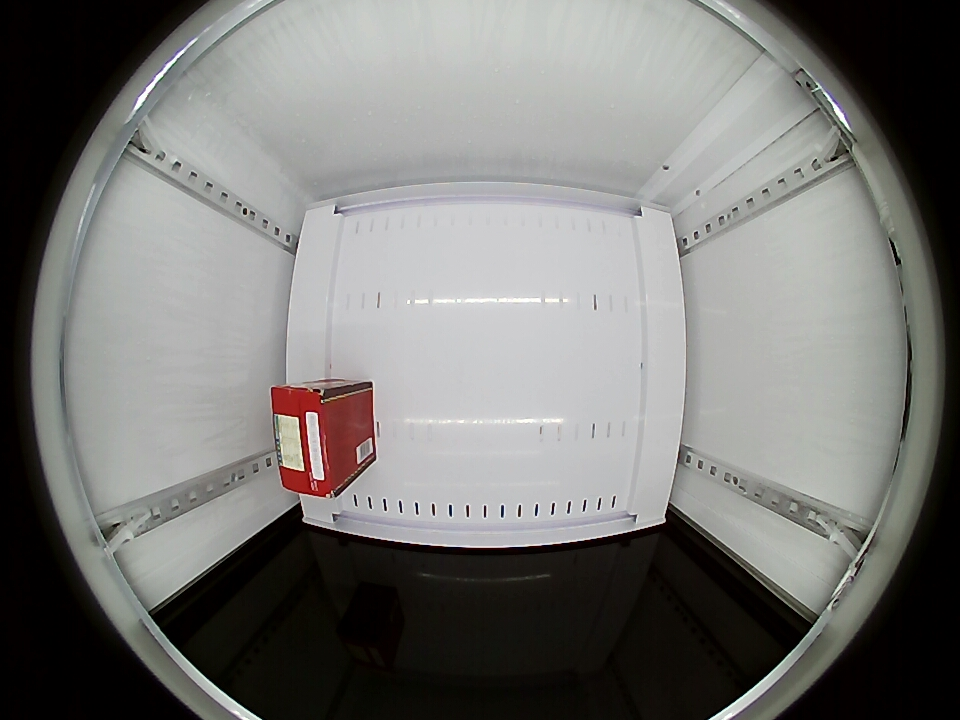haoliyou: (271, 381, 361, 499)
